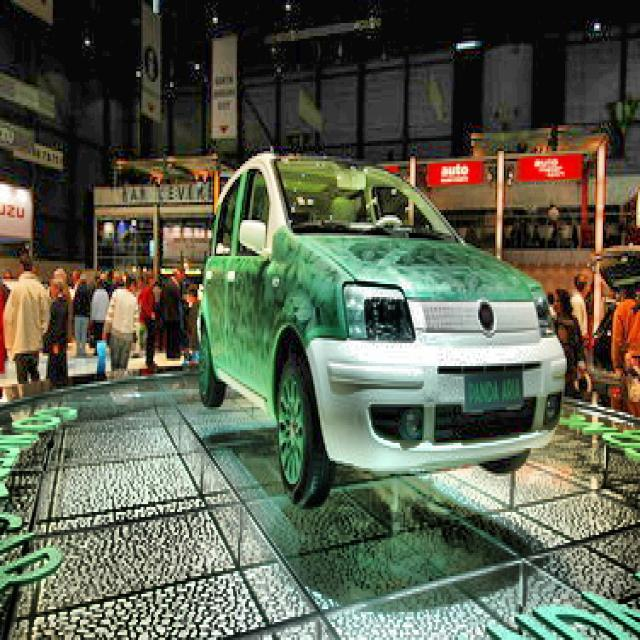carro: (193, 156, 569, 501)
